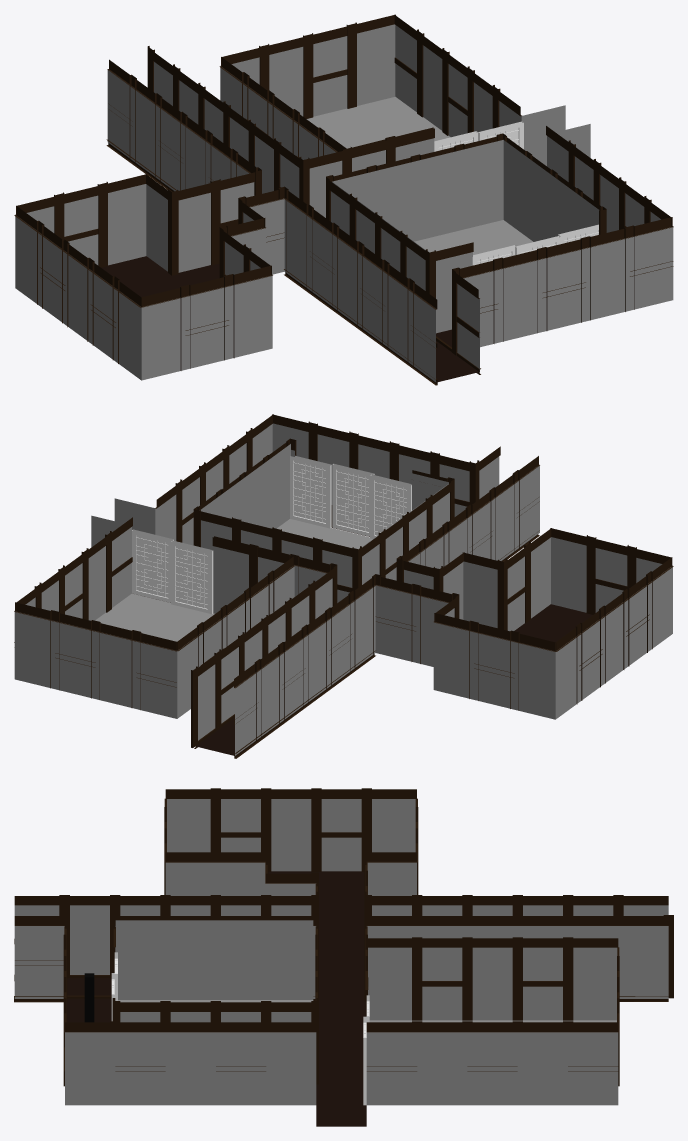
3 renders of one model, top to bottom at view 1: azimuth 30°, elevation 25°; view 2: azimuth 150°, elevation 25°; view 3: azimuth 270°, elevation 25°, orthographic. The views are drawn at different scales.
Parts seen in each view (by area): view 1: Plane001, Object002, Object004, Box030, Object003, Object005, Box023, Box024, Box037, Box115, Box102, Box116 (+15 smaller); view 2: Plane001, Object002, Object004, Object009, Object011, Object010, Object012, Object013, Box030, Box115, Object003, Box024 (+17 smaller); view 3: Plane001, Object002, Object004, Object005, Object003, Box037, Box024, Box023, Box114, Box103, Box102, Box116 (+14 smaller).
Part boxes in pixels (bbox=[...]): Plane001: bbox=[15, 62, 673, 382]; Object002: bbox=[220, 24, 521, 159]; Object004: bbox=[332, 140, 599, 254]; Box030: bbox=[454, 217, 673, 278]; Object003: bbox=[101, 256, 185, 297]; Object005: bbox=[173, 263, 478, 382]; Box023: bbox=[284, 189, 437, 309]; Box024: bbox=[107, 59, 260, 173]; Box037: bbox=[150, 49, 301, 169]; Box115: bbox=[221, 14, 395, 66]; Box102: bbox=[14, 206, 141, 307]; Box116: bbox=[219, 57, 346, 152]; Plane001: bbox=[91, 423, 672, 755]; Object002: bbox=[14, 527, 294, 718]; Object004: bbox=[201, 444, 448, 549]; Object009: bbox=[171, 540, 213, 614]; Object011: bbox=[290, 455, 331, 528]; Object010: bbox=[132, 529, 173, 602]; Object012: bbox=[332, 463, 374, 536]; Object013: bbox=[370, 474, 411, 538]; Box030: bbox=[272, 414, 469, 471]; Box115: bbox=[14, 602, 177, 651]; Object003: bbox=[514, 604, 592, 642]; Box024: bbox=[234, 576, 375, 688]; Plane001: bbox=[14, 799, 668, 1105]; Object002: bbox=[366, 947, 618, 1105]; Object004: bbox=[115, 920, 313, 1002]; Object005: bbox=[66, 935, 366, 1126]; Object003: bbox=[268, 871, 364, 934]; Box037: bbox=[367, 916, 668, 925]; Box024: bbox=[372, 896, 668, 905]; Box023: bbox=[14, 896, 311, 905]; Box114: bbox=[366, 1022, 618, 1032]; Box103: bbox=[65, 1022, 316, 1032]; Box102: bbox=[165, 789, 416, 798]; Box116: bbox=[366, 938, 618, 947].
Size of the model in its own units: 120 by 18.9 by 131.
